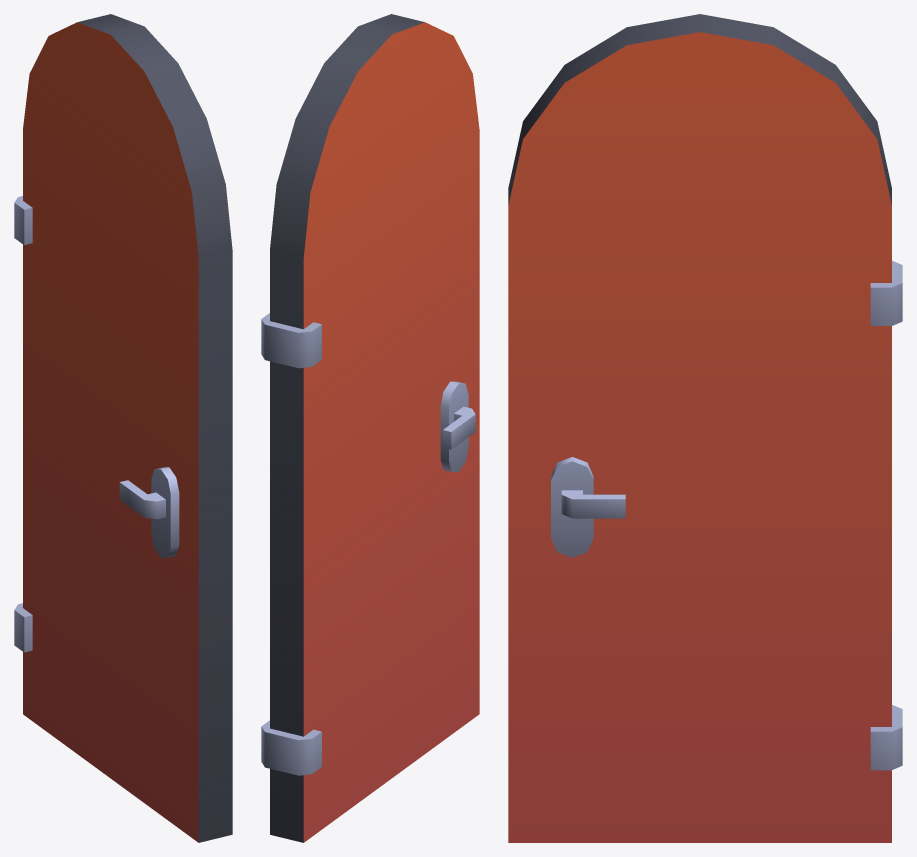
File: Red door.glb
3 views of the same model, side by side, from view 1: azimuth 30°, elevation 25°; view 2: azimuth 150°, elevation 25°; view 3: azimuth 270°, elevation 25° (orthographic). The views are drawn at different scales.
Parts seen in each view (by area): view 1: door, handle; view 2: door, handle; view 3: door, handle.
Boxes of the visible parts, left/top/right/bottom form: door: left=14, top=14, right=232, bottom=842; handle: left=119, top=480, right=165, bottom=519; door: left=261, top=14, right=479, bottom=842; handle: left=442, top=406, right=475, bottom=449; door: left=508, top=14, right=902, bottom=842; handle: left=561, top=490, right=625, bottom=518.
Size of the model in its own units: 0.25 by 2.1 by 0.925.
Materials: 1 (1 with a texture image).
